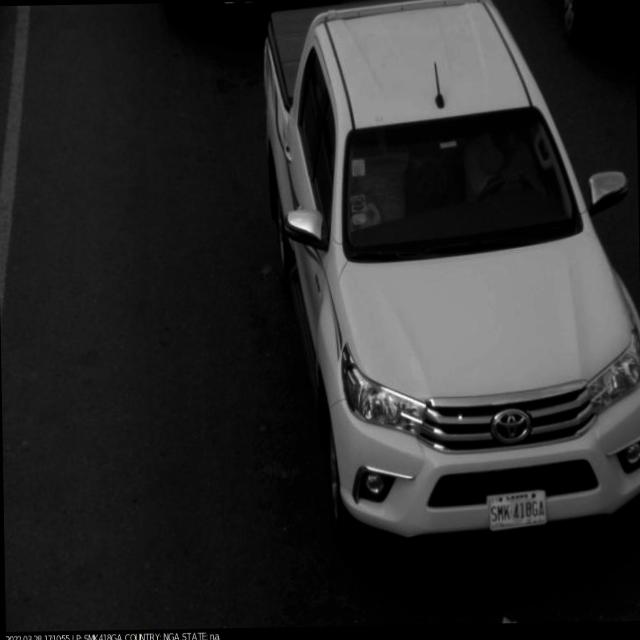person_with_seatbelt: (455, 107, 545, 220)
